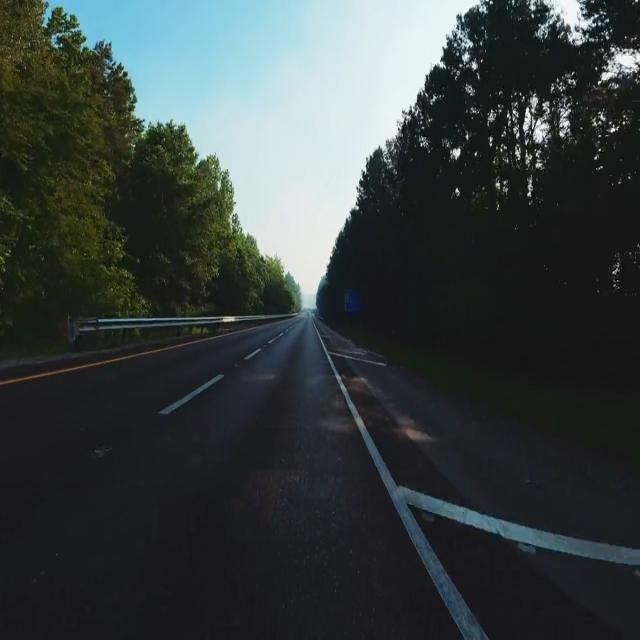asphalt: (0, 317, 459, 639)
